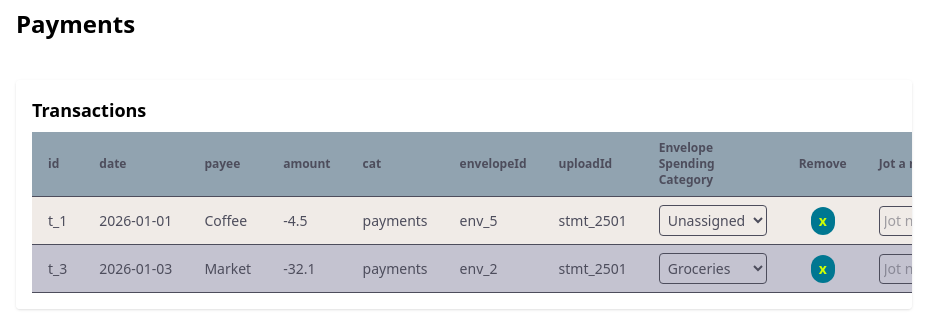
Test case: Transaction deletion (integration) › deletes a transaction and removes it from the table
Expected: the text "t_1" is shown, [32,196,83,244]
# click delete
Click the button named "delete transaction t_1" at (823, 220), box [811,206,835,234]
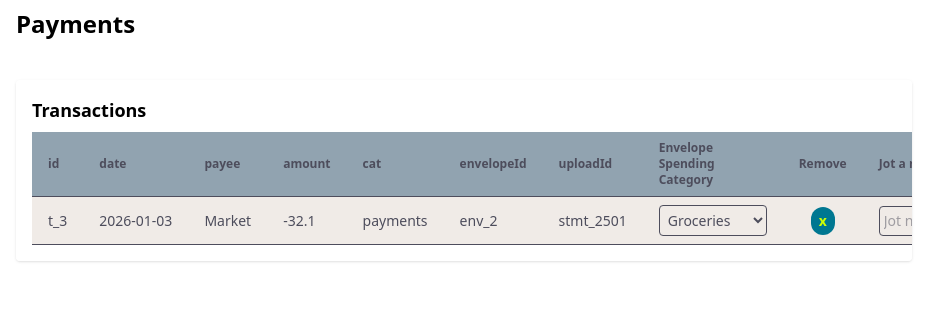
Expected: the text "t_1" is gone
